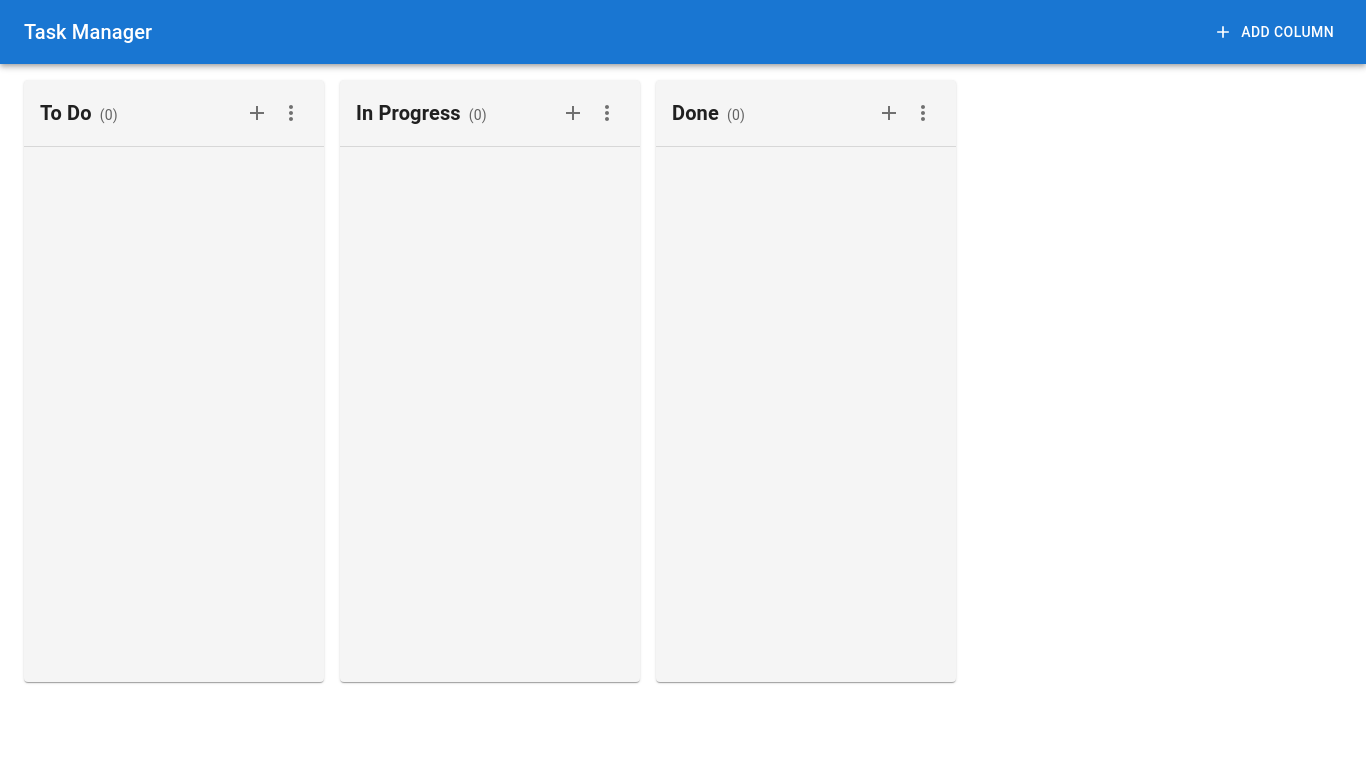
Test case: TaskBoard › should add a new task when form is submitted
Click the button with test id "add-task-btn-todo".
click(257, 113)  # box 240,96 -> 274,130
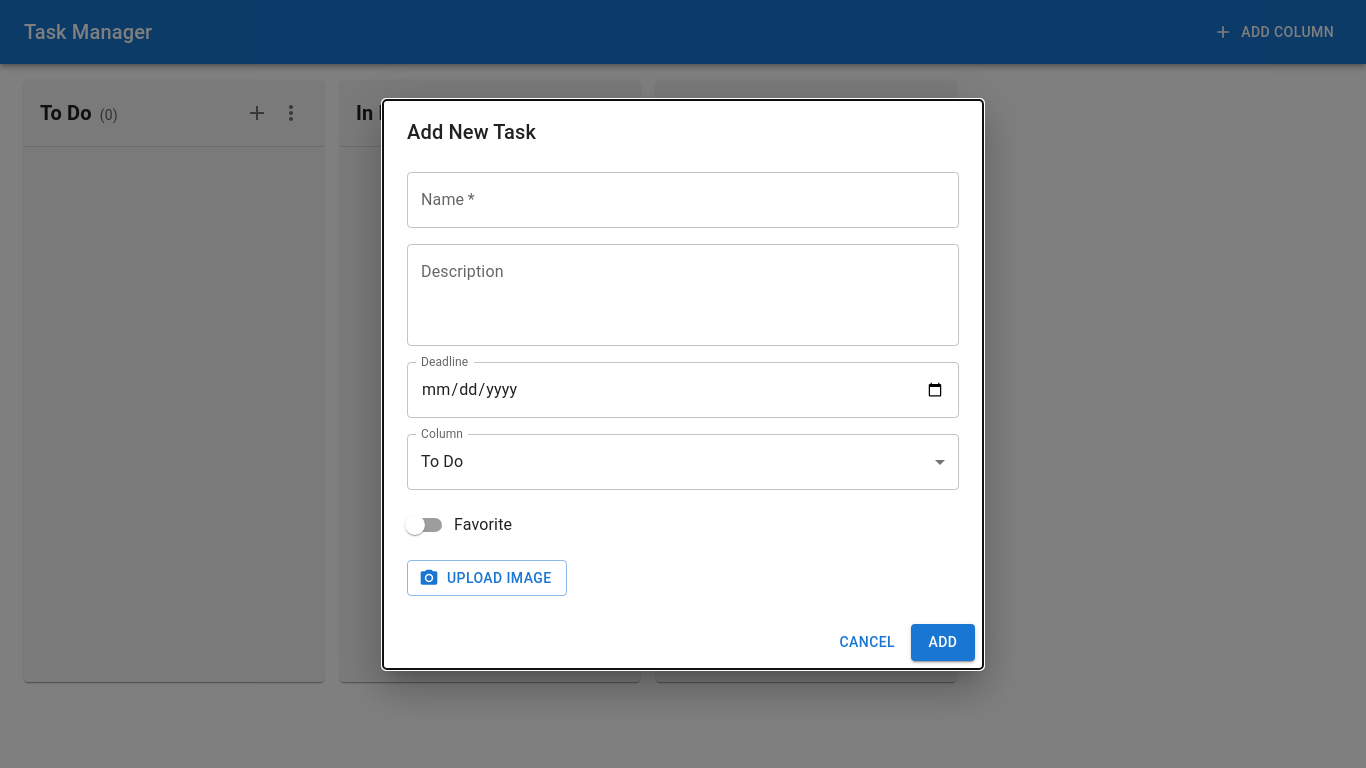
Type "New Test Task" into the field with test id "task-name-input".
click(683, 200); type("New Test Task")  # box 407,172 -> 959,228
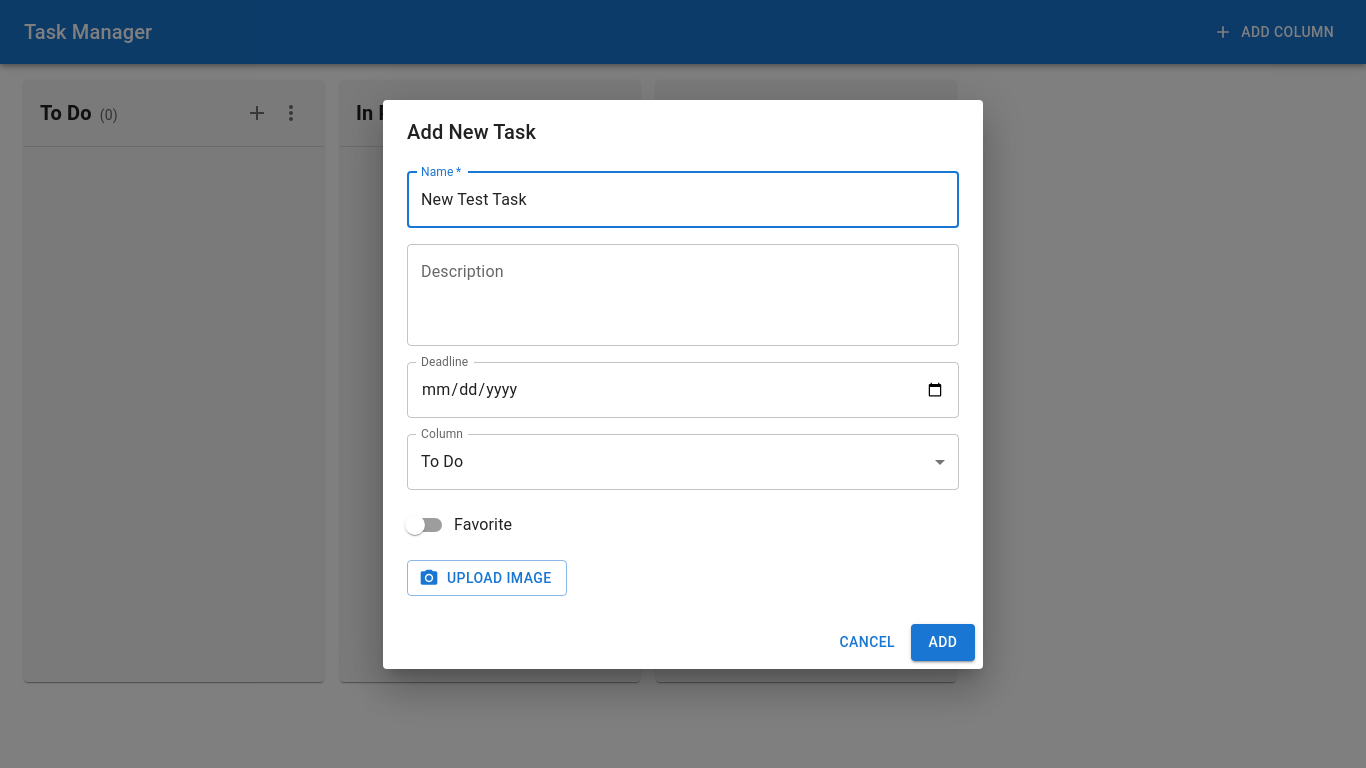
Click the button with test id "save-task-btn".
click(943, 642)  # box 911,624 -> 975,660
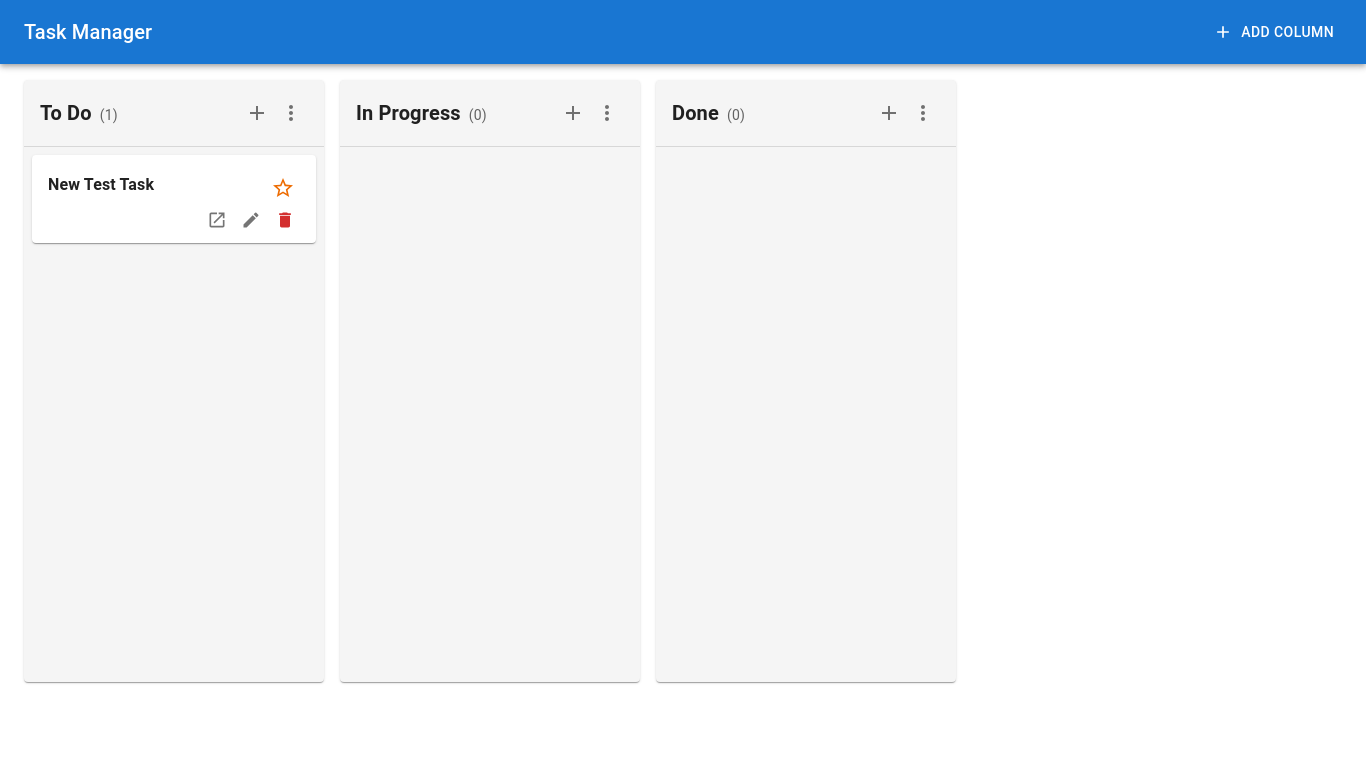
Now the heading "New Test Task" is shown, box 48,175 -> 154,194
